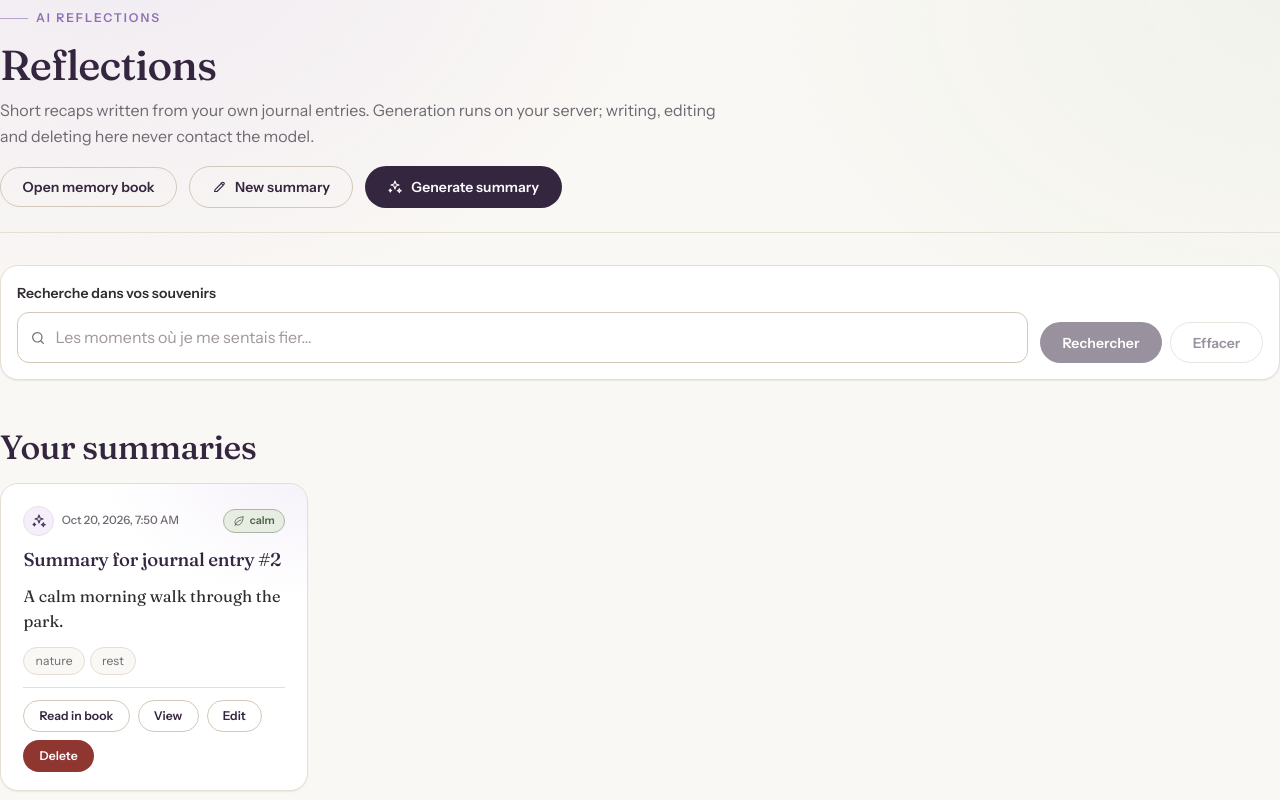
Test case: SummariesPage › does not offer illustration generation without an illustration prompt
Expected: the text "A calm morning walk through the park." is shown, [23,584,285,635]
Click the button with aria-label "View summary 8": (168, 716) [138,700,198,732]
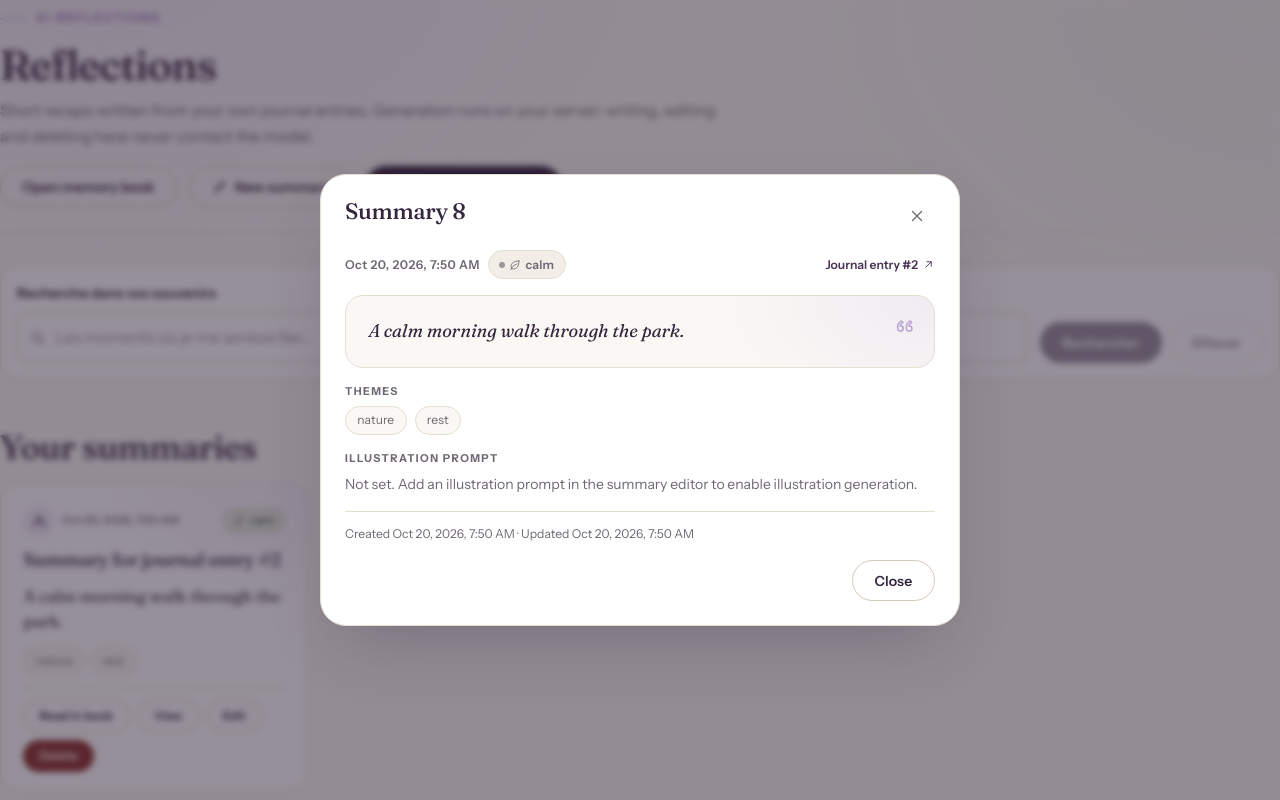
Expected: the text "Add an illustration prompt in the summary editor" is shown, [345,475,917,493]
